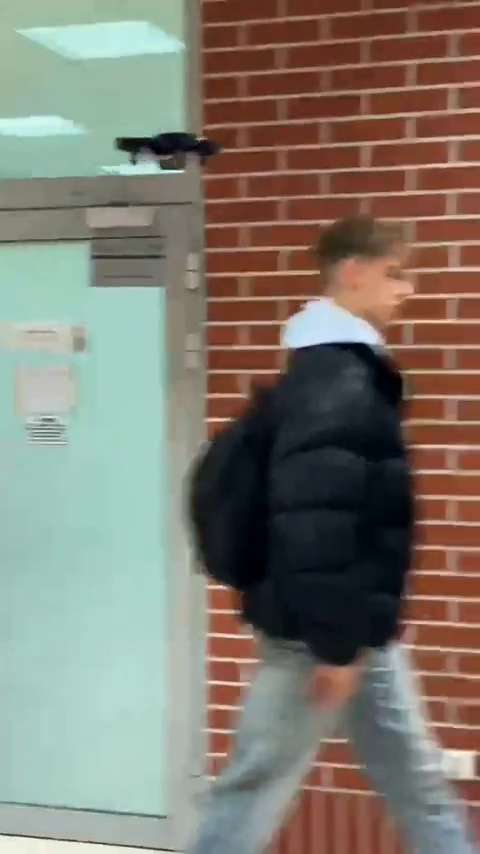drone: (111, 135, 219, 168)
no vest: (194, 217, 469, 854)
